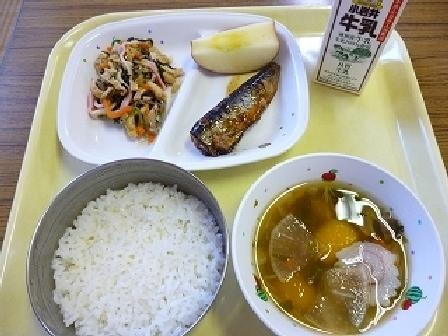Apple: (187, 16, 285, 75)
Fish: (183, 72, 291, 157)
Milk: (313, 0, 410, 101)
Rice: (27, 170, 235, 335)
Soups: (239, 171, 432, 335)
salad with sauce: (80, 40, 172, 132)
